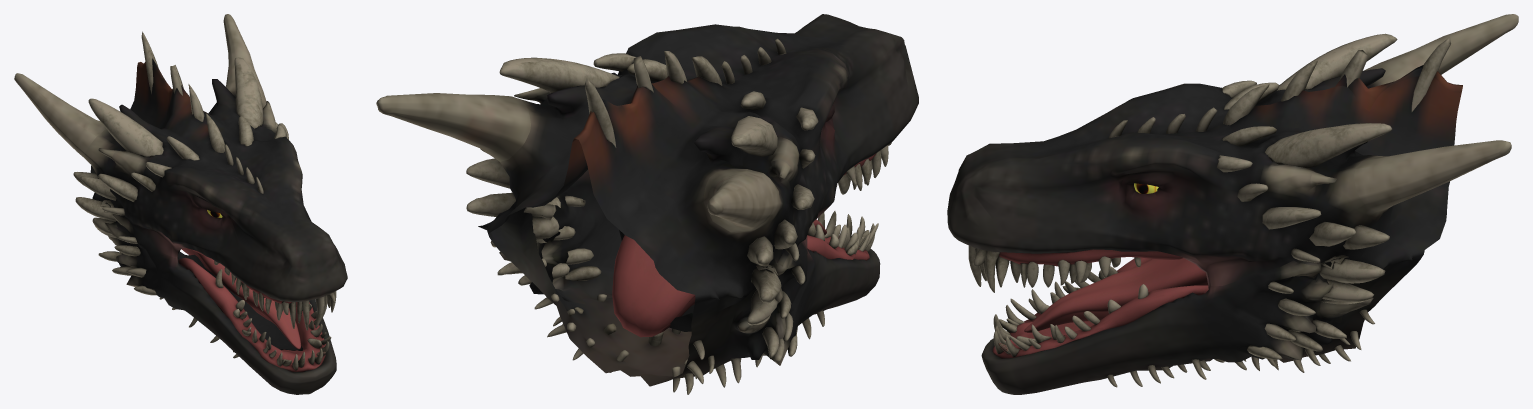
The model's file is dragon_00009.obj.
3 views of the same model, side by side, from view 1: azimuth 30°, elevation 25°; view 2: azimuth 150°, elevation 25°; view 3: azimuth 270°, elevation 25° (orthographic). The views are drawn at different scales.
Visible parts, largest first — view 1: Dragon_Untitled; view 2: Dragon_Untitled; view 3: Dragon_Untitled.
Part boxes in pixels (x1,y1,x2,y2): Dragon_Untitled: [14, 14, 347, 394]; Dragon_Untitled: [376, 14, 918, 394]; Dragon_Untitled: [947, 14, 1518, 394].
Bounding box in the file's own units: 2.72 × 3.02 × 4.45.
